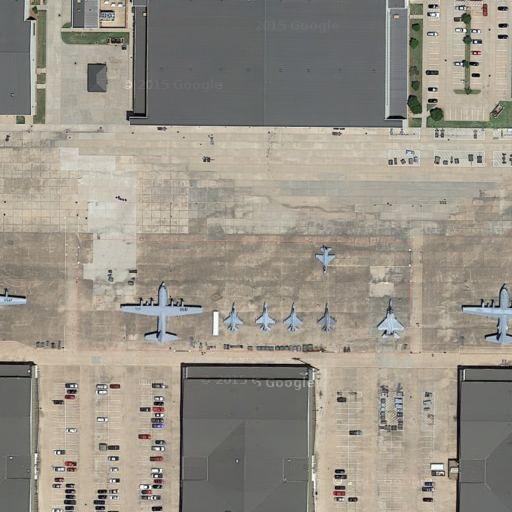C-130: (119, 284, 206, 347), (461, 283, 512, 351)
F-16: (219, 298, 247, 336), (311, 242, 340, 275), (279, 301, 305, 336), (254, 299, 278, 333), (313, 301, 337, 335)
F/A-18: (373, 295, 407, 342)
